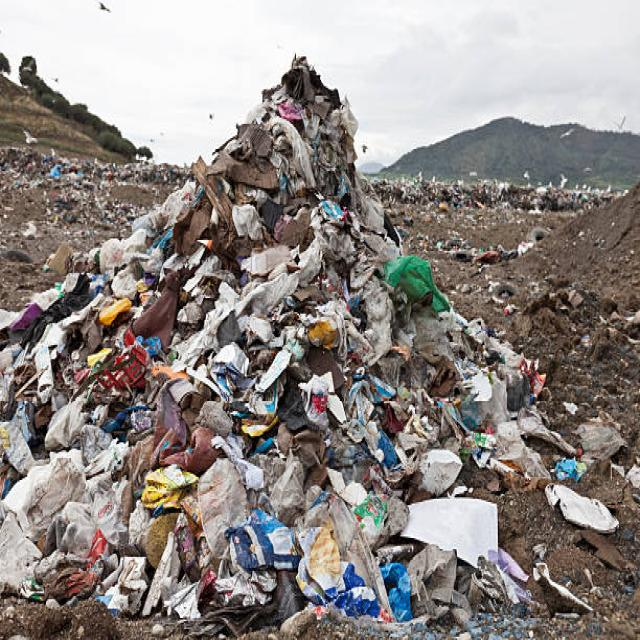trash: (8, 31, 560, 607)
